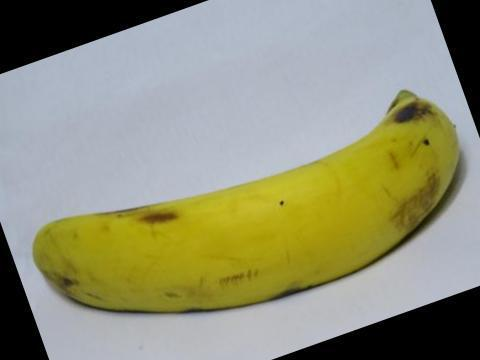freshripe: (18, 81, 469, 329)
